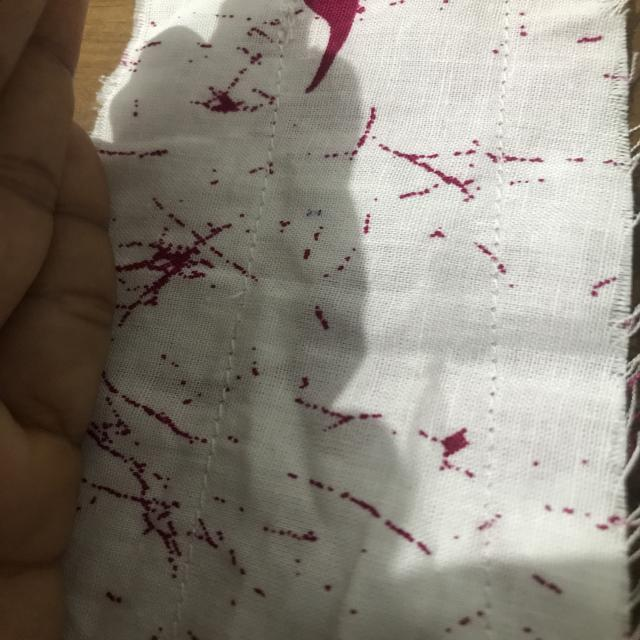broken: (210, 281, 263, 335)
